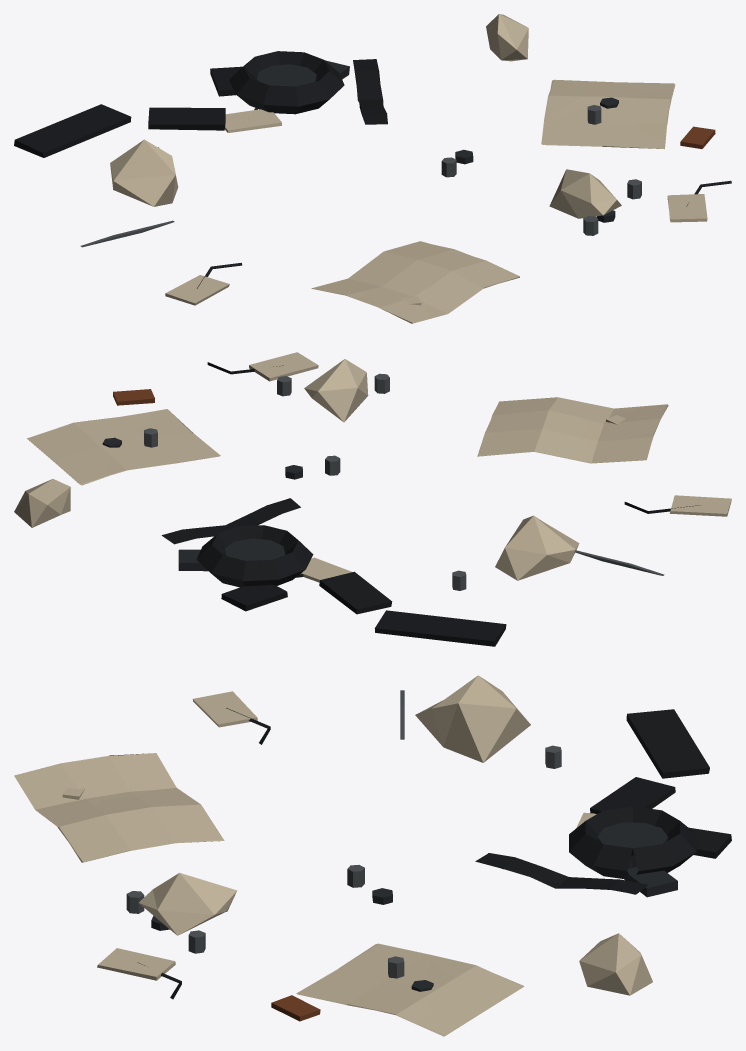
The model's file is airlock_debris.glb.
The picture shows the model from 3 angles, top to bottom: view 1: azimuth 30°, elevation 25°; view 2: azimuth 150°, elevation 25°; view 3: azimuth 270°, elevation 25°; orthographic projection. The views are drawn at different scales.
Visible parts, largest first — view 1: airlock_debris; view 2: airlock_debris; view 3: airlock_debris.
Part boxes in pixels (x1=…): airlock_debris: x1=14, y1=14, x2=731, y2=323; airlock_debris: x1=14, y1=352, x2=731, y2=646; airlock_debris: x1=14, y1=675, x2=731, y2=1036.
Size of the model in its own units: 0.9225 by 0.0929 by 0.8103.
